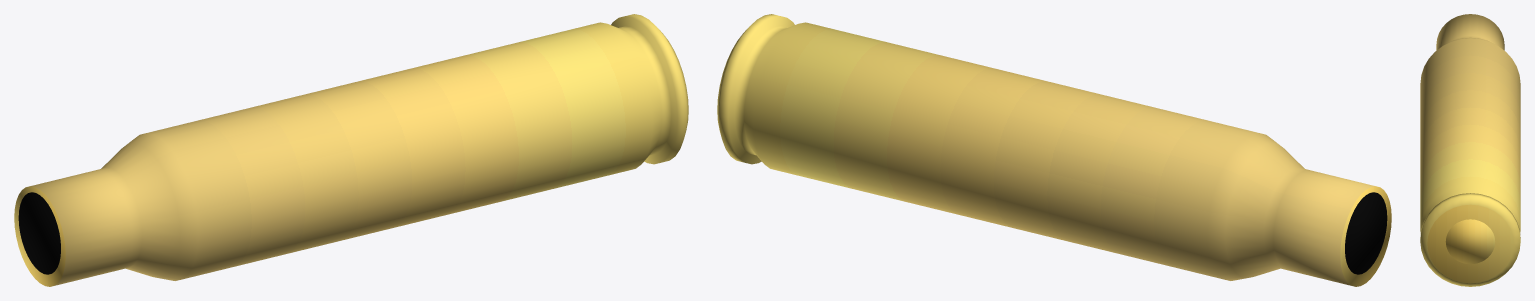
File: Douille 5.56.fbx
3 views of the same model, side by side, from view 1: azimuth 30°, elevation 25°; view 2: azimuth 150°, elevation 25°; view 3: azimuth 270°, elevation 25° (orthographic). The views are drawn at different scales.
Visible parts, largest first — view 1: Cylindre; view 2: Cylindre; view 3: Cylindre.
Boxes of the visible parts, x1,y1,x2,y2 form: Cylindre: (14,14,688,286); Cylindre: (717,14,1391,286); Cylindre: (1420,14,1520,286).
Bounding box in the file's own units: 345 × 73.39 × 73.39.
3 materials, 3 textured.
